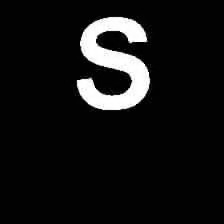LTR_S: (73, 9, 153, 114)
